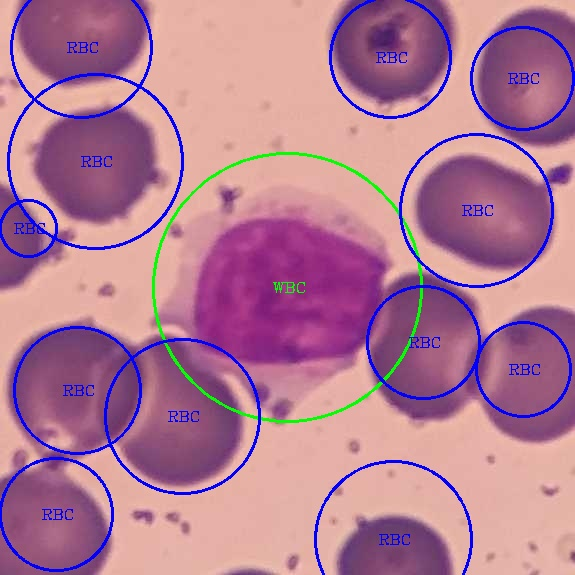RBC: (112, 325, 249, 493), (1, 310, 148, 463), (364, 264, 489, 428), (25, 97, 170, 229), (409, 150, 560, 276), (320, 0, 463, 115), (469, 1, 574, 154), (476, 296, 574, 448), (1, 448, 117, 573), (10, 0, 159, 92), (322, 509, 458, 573)
WBC: (150, 191, 410, 418)
